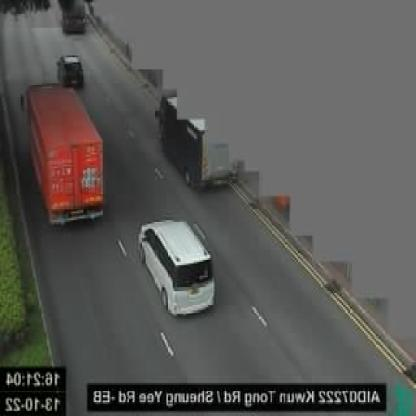Car: (137, 216, 216, 319), (58, 53, 84, 92)
Truck: (24, 82, 107, 226), (155, 96, 240, 192)
